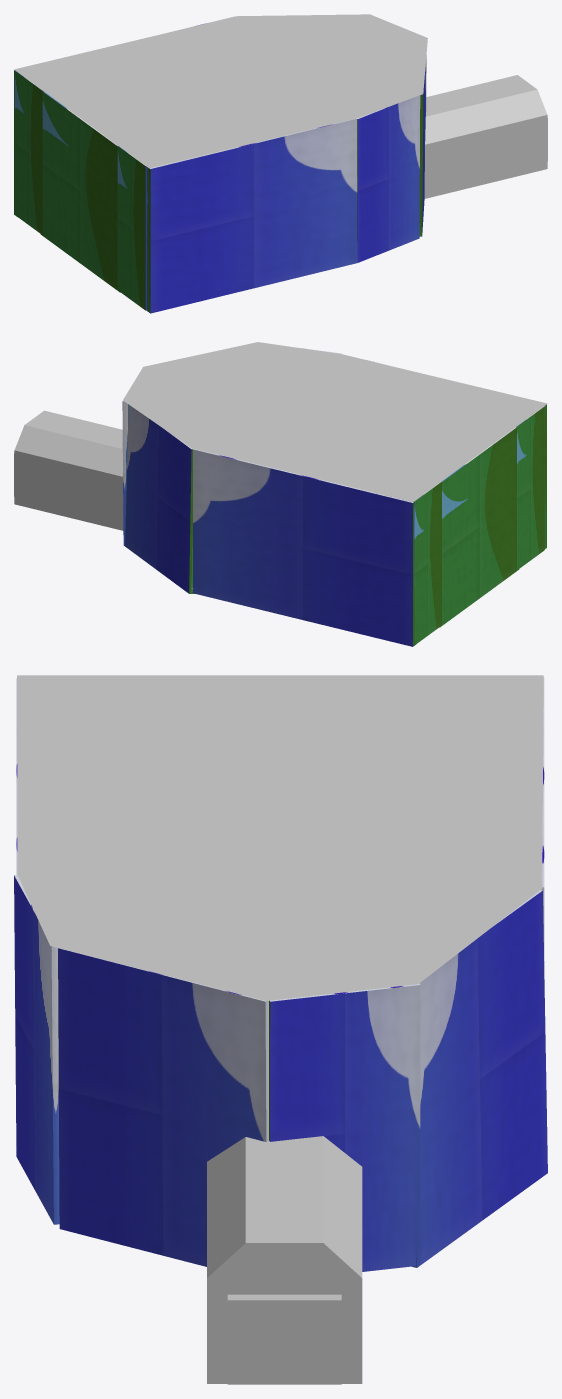
File: castle.obj
3 views of the same model, one above another, from view 1: azimuth 30°, elevation 25°; view 2: azimuth 150°, elevation 25°; view 3: azimuth 270°, elevation 25° (orthographic). The views are drawn at different scales.
Parts seen in each view (by area): view 1: Ceil, Left_Wall, Front_Wall, Tunnel, Wall; view 2: Ceil, Right_Wall, Front_Wall, Tunnel, Wall, Left_Wall; view 3: Ceil, Wall, Tunnel, Door.
Part boxes in pixels (left/top/right/bottom): Ceil: left=14, top=14, right=427, bottom=168; Left_Wall: left=146, top=118, right=357, bottom=313; Front_Wall: left=14, top=70, right=146, bottom=310; Tunnel: left=424, top=75, right=547, bottom=198; Wall: left=357, top=55, right=426, bottom=262; Ceil: left=123, top=342, right=547, bottom=501; Right_Wall: left=193, top=449, right=416, bottom=646; Front_Wall: left=413, top=406, right=544, bottom=645; Tunnel: left=14, top=410, right=123, bottom=530; Wall: left=122, top=348, right=341, bottom=593; Left_Wall: left=340, top=353, right=546, bottom=549; Ceil: left=17, top=675, right=543, bottom=1000; Wall: left=14, top=875, right=547, bottom=1271; Tunnel: left=207, top=1136, right=362, bottom=1383; Door: left=227, top=1294, right=341, bottom=1384.
Bounding box in the file's own units: 39.36 × 12.29 × 20.62.
